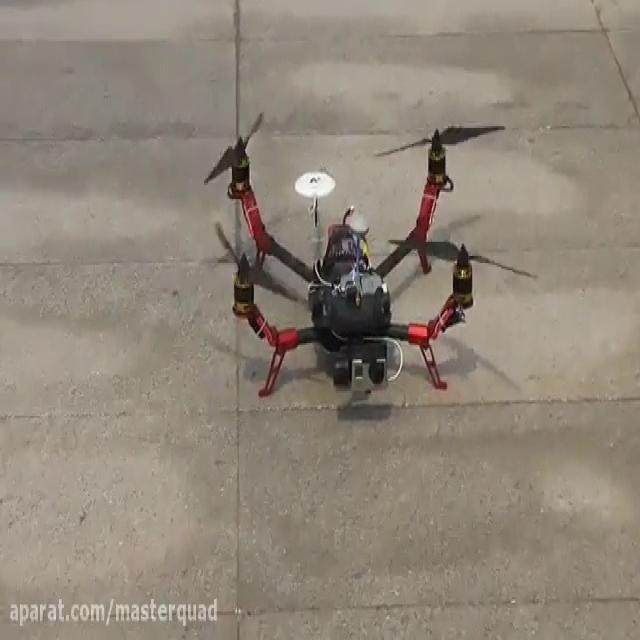drone: (200, 108, 540, 402)
